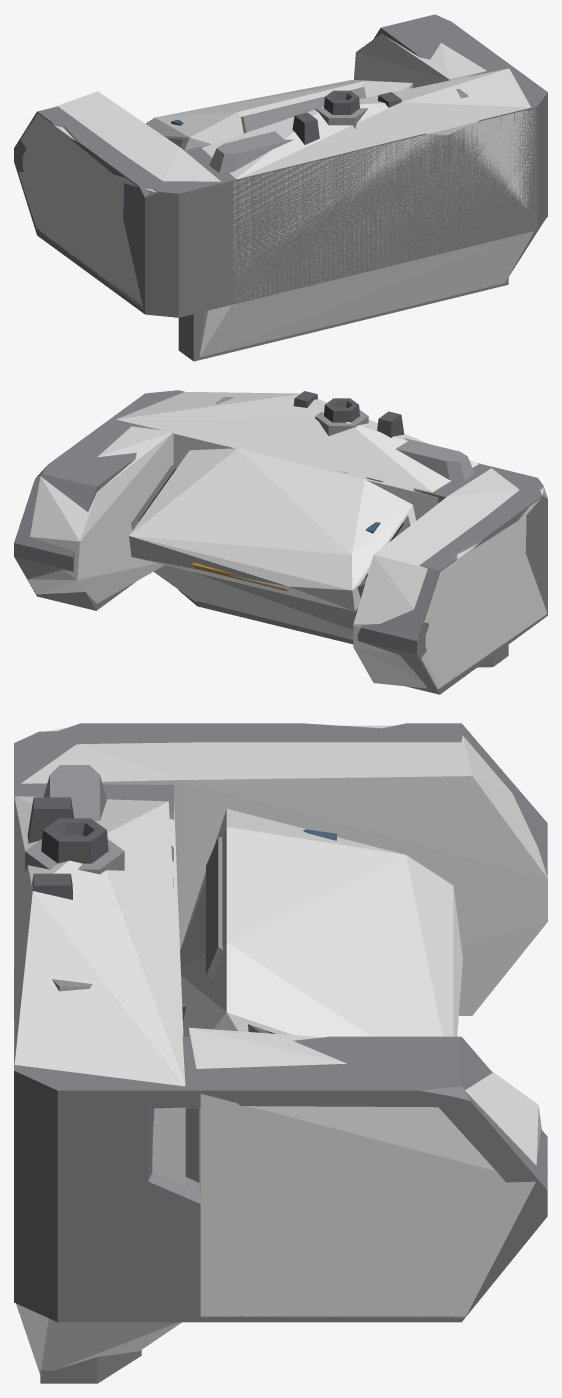
The model's file is SM_Prop_Desk_Small_01.fbx.
3 renders of one model, top to bottom at view 1: azimuth 30°, elevation 25°; view 2: azimuth 150°, elevation 25°; view 3: azimuth 270°, elevation 25°, orthographic. The views are drawn at different scales.
Visible parts, largest first — view 1: SM_Prop_Desk_Small_01_ConvexHulls, SM_Prop_Desk_Small_01_LOD0; view 2: SM_Prop_Desk_Small_01_ConvexHulls, SM_Prop_Desk_Small_01_LOD0; view 3: SM_Prop_Desk_Small_01_ConvexHulls, SM_Prop_Desk_Small_01_LOD0.
Part boxes in pixels (x1,y1,x2,y2): SM_Prop_Desk_Small_01_ConvexHulls: (18, 34, 542, 357); SM_Prop_Desk_Small_01_LOD0: (14, 14, 547, 361); SM_Prop_Desk_Small_01_ConvexHulls: (27, 392, 546, 689); SM_Prop_Desk_Small_01_LOD0: (14, 390, 547, 694); SM_Prop_Desk_Small_01_ConvexHulls: (14, 725, 547, 1374); SM_Prop_Desk_Small_01_LOD0: (14, 723, 547, 1383).
Bounding box in the file's own units: 94.99 × 155 × 80.53.
1 material, 1 textured.
